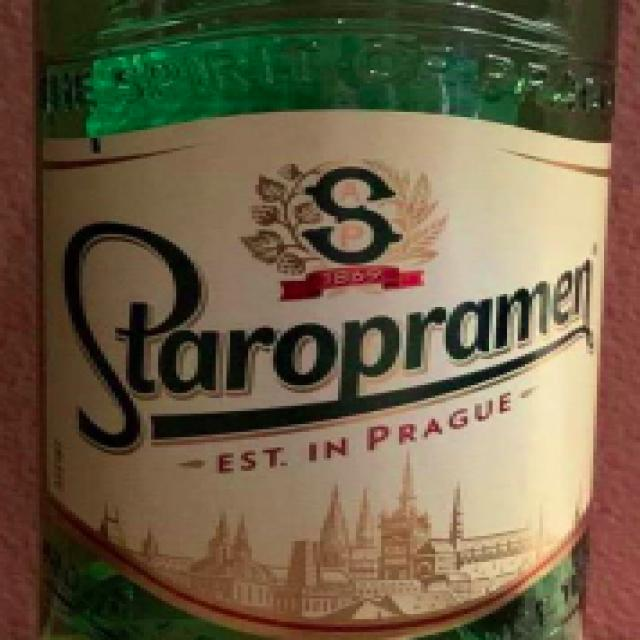Staropramen: (3, 0, 640, 640)
